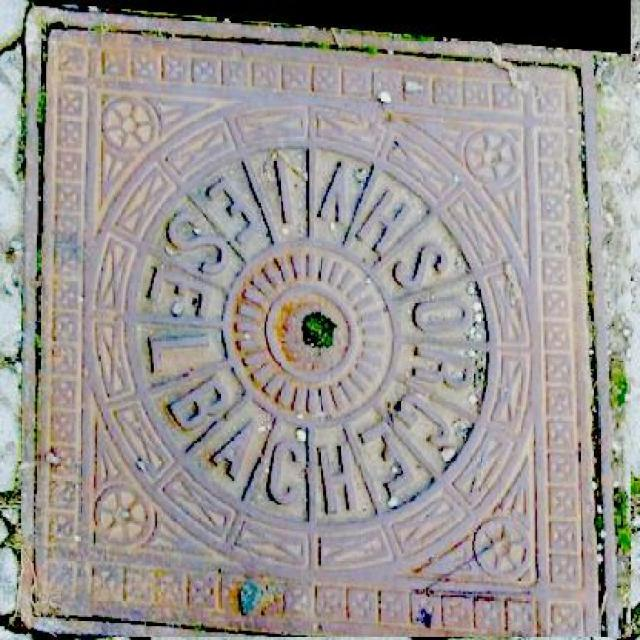Manhole: (20, 0, 631, 637)
